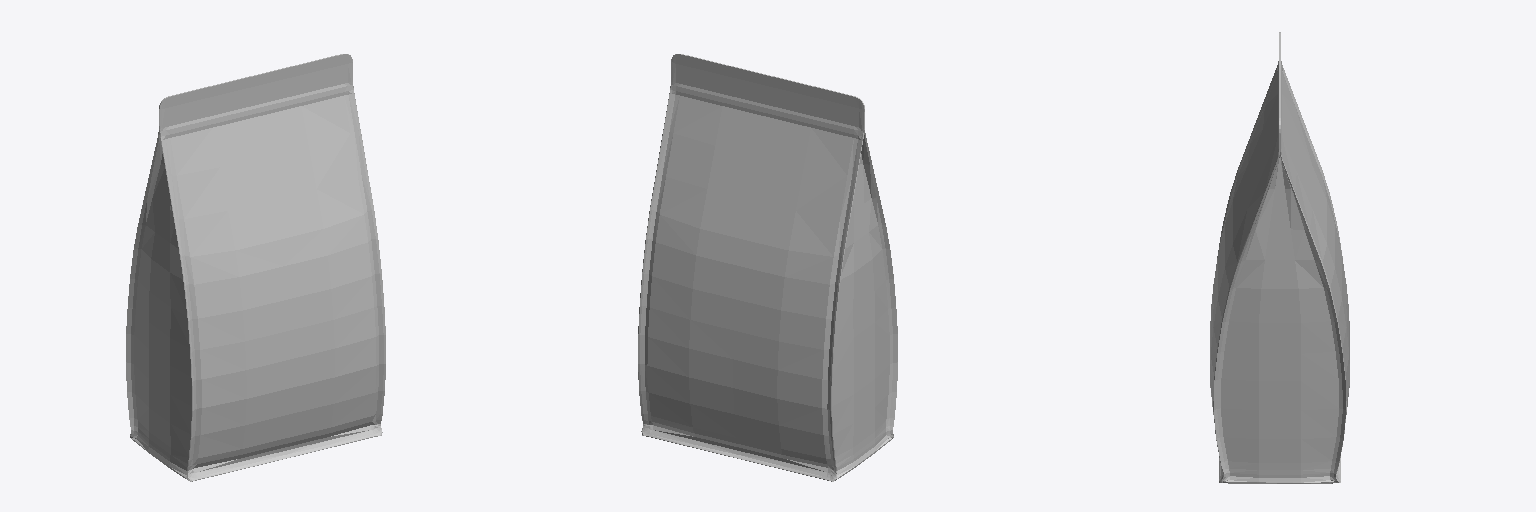
The model's file is Costal1.obj.
3 renders of one model, left to right at view 1: azimuth 30°, elevation 25°; view 2: azimuth 150°, elevation 25°; view 3: azimuth 270°, elevation 25°, orthographic.
Visible parts, largest first — view 1: Costal_1_; view 2: Costal_1_; view 3: Costal_1_.
Boxes of the visible parts, x1,y1,x2,y2 form: Costal_1_: [126, 54, 385, 481]; Costal_1_: [638, 54, 897, 481]; Costal_1_: [1210, 32, 1349, 483].
Bounding box in the file's own units: 23.41 × 41.4 × 14.51.